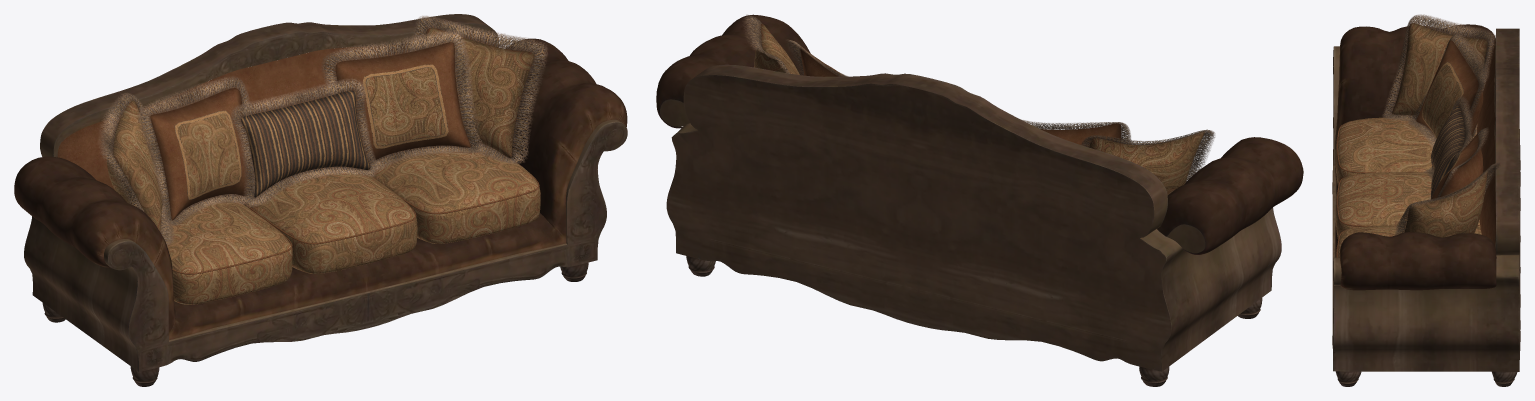
File: wood-leather-sofa.glb
3 renders of one model, left to right at view 1: azimuth 30°, elevation 25°; view 2: azimuth 150°, elevation 25°; view 3: azimuth 270°, elevation 25°, orthographic. The views are drawn at different scales.
Visible parts, largest first — view 1: Frame, Paisley, Fringe, Brown, Stripes, Frame_Fabric; view 2: Frame, Paisley, Fringe, Brown; view 3: Frame, Paisley, Fringe, Brown, Frame_Fabric, Stripes.
Boxes of the visible parts, x1=… form: Frame: x1=14, y1=14, x2=627, y2=386; Paisley: x1=107, y1=27, x2=540, y2=304; Fringe: x1=98, y1=16, x2=547, y2=246; Brown: x1=150, y1=42, x2=539, y2=274; Stripes: x1=174, y1=64, x2=448, y2=199; Frame_Fabric: x1=57, y1=34, x2=494, y2=189; Frame: x1=656, y1=14, x2=1303, y2=386; Paisley: x1=754, y1=23, x2=1204, y2=194; Fringe: x1=743, y1=14, x2=1215, y2=182; Brown: x1=800, y1=46, x2=1121, y2=147; Frame: x1=1332, y1=24, x2=1520, y2=386; Paisley: x1=1335, y1=23, x2=1487, y2=257; Fringe: x1=1382, y1=14, x2=1499, y2=235; Brown: x1=1336, y1=40, x2=1483, y2=257; Frame_Fabric: x1=1477, y1=39, x2=1495, y2=245; Stripes: x1=1422, y1=61, x2=1472, y2=198.
Bounding box in the file's own units: 2.73 × 1.12 × 0.9231.
6 materials, 6 textured.
